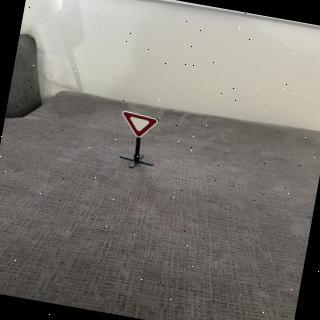sign_yield: (118, 110, 162, 143)
